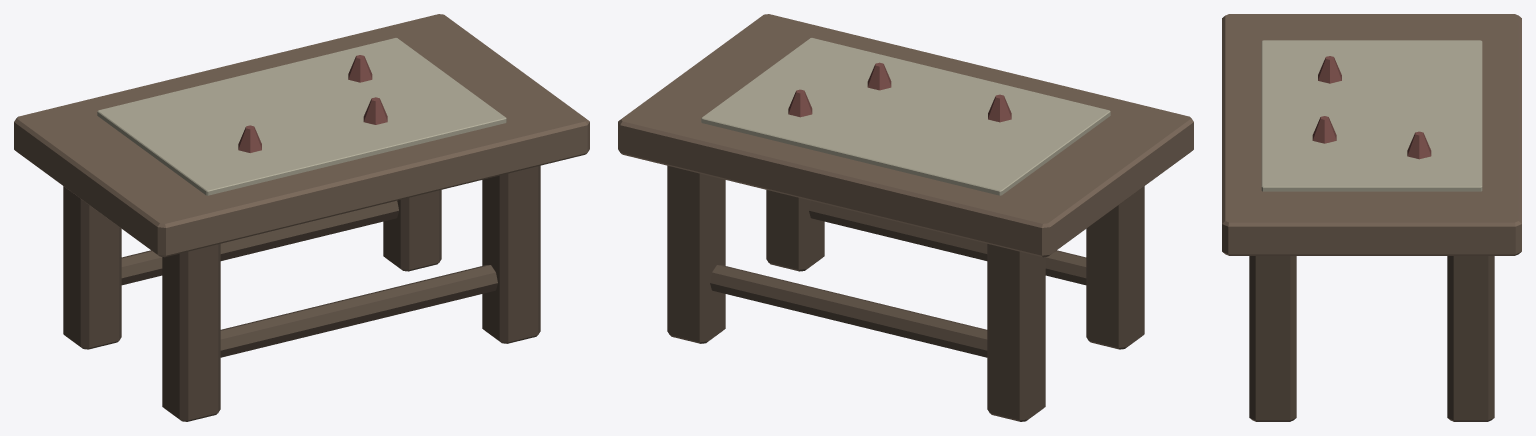
Rendered from war-table.glb.
3 renders of one model, left to right at view 1: azimuth 30°, elevation 25°; view 2: azimuth 150°, elevation 25°; view 3: azimuth 270°, elevation 25°, orthographic.
Parts seen in each view (by area): view 1: war-table__body; view 2: war-table__body; view 3: war-table__body.
Boxes of the visible parts, <box> form: war-table__body: <box>14,14,589,421</box>; war-table__body: <box>618,14,1193,421</box>; war-table__body: <box>1222,14,1521,421</box>.
Bounding box in the file's own units: 0.95 × 0.507 × 0.57.
